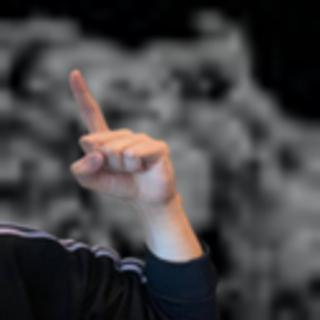IRRITATED: (61, 66, 177, 210)
